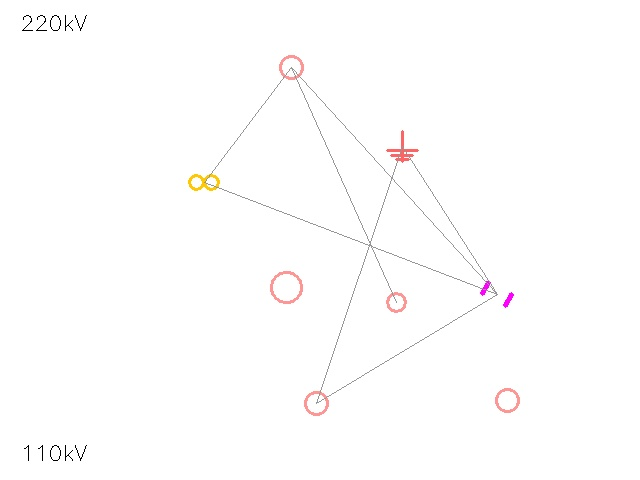capacitor: (476, 273, 518, 315)
current_transformer: (255, 256, 317, 318), (484, 377, 530, 423), (268, 44, 314, 90)
disconnect_switch: (378, 284, 414, 320)
fuse: (294, 381, 338, 425)
ground: (387, 131, 417, 161)
transformer_2w: (186, 164, 222, 200)
